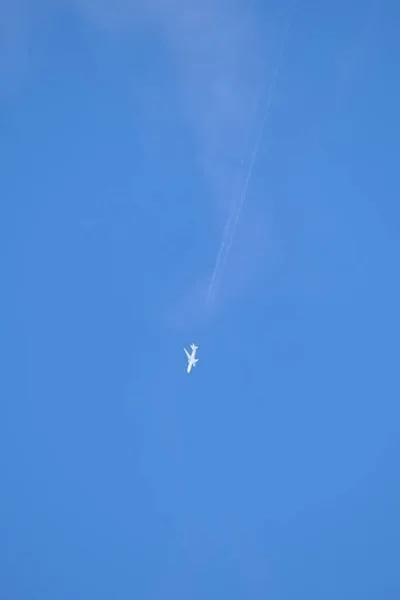Plane: (173, 330, 207, 383)
